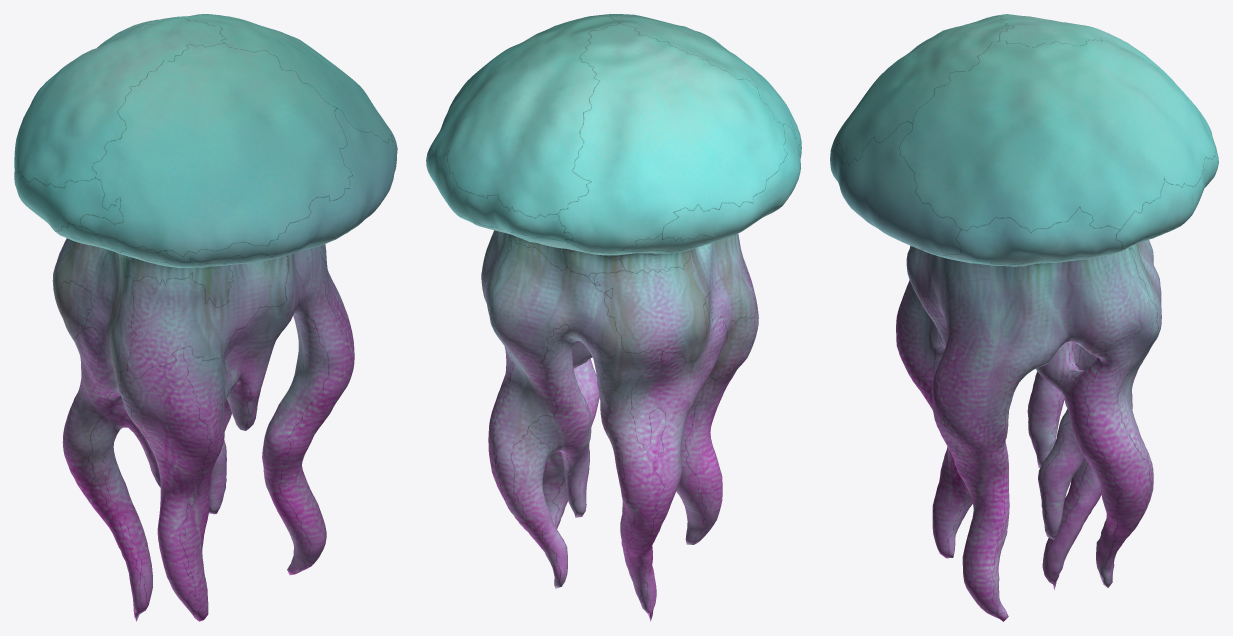
Rendered from jelly_ooze.glb.
3 renders of one model, left to right at view 1: azimuth 30°, elevation 25°; view 2: azimuth 150°, elevation 25°; view 3: azimuth 270°, elevation 25°, orthographic. The views are drawn at different scales.
Parts seen in each view (by area): view 1: Mesh1; view 2: Mesh1; view 3: Mesh1.
Boxes of the visible parts, bbox=[...] form: Mesh1: bbox=[14, 14, 397, 621]; Mesh1: bbox=[426, 14, 801, 621]; Mesh1: bbox=[830, 14, 1218, 621].
Bounding box in the file's own units: 0.7182 × 1.2 × 0.7301.
1 material, 1 textured.
